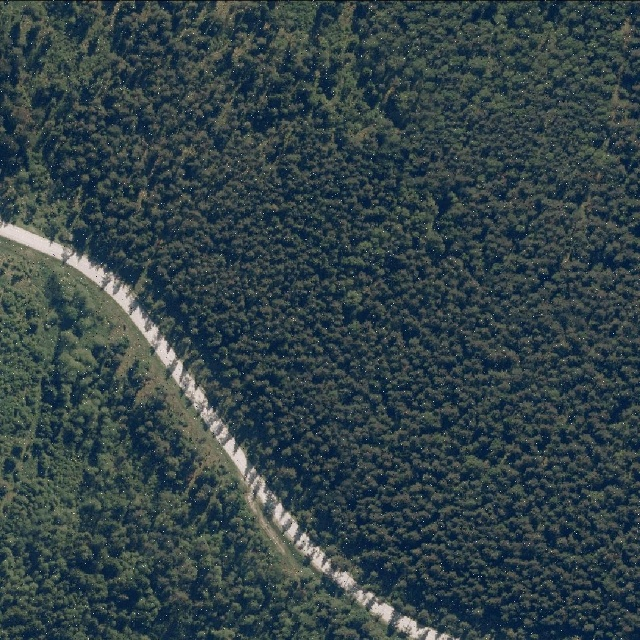vegetation: (0, 248, 405, 640)
